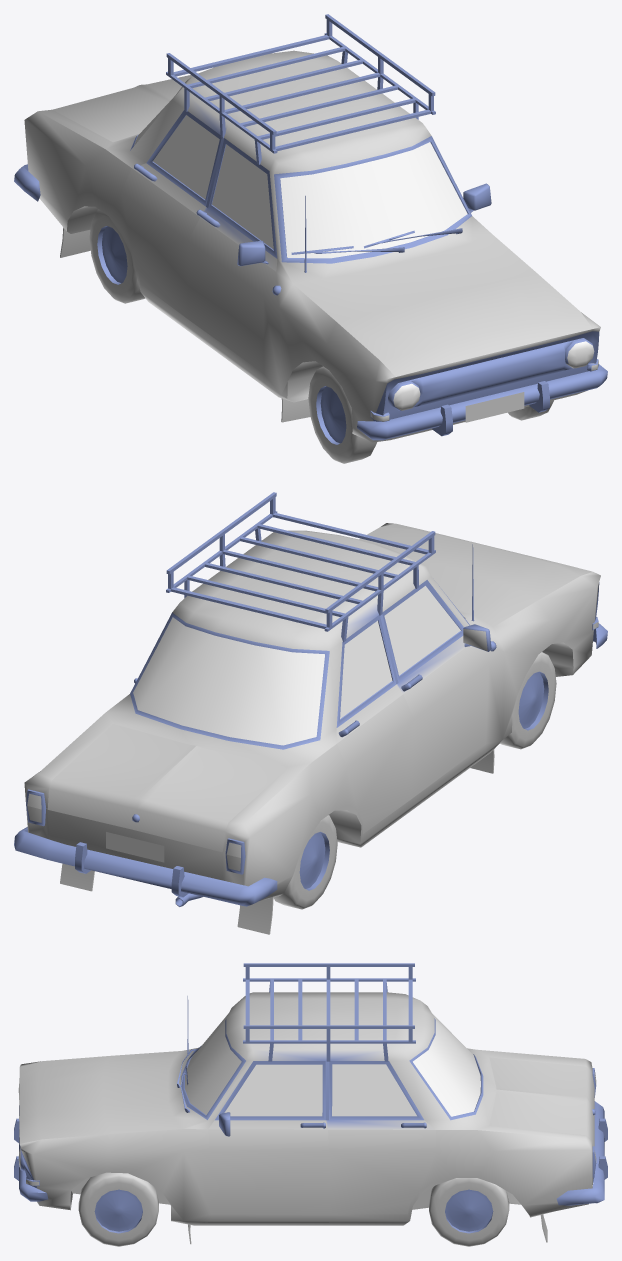
3 renders of one model, top to bottom at view 1: azimuth 30°, elevation 25°; view 2: azimuth 150°, elevation 25°; view 3: azimuth 270°, elevation 25°, orthographic. The views are drawn at different scales.
Parts seen in each view (by area): view 1: MSH_Volga, MSH_Volga_Tire_FrontR, MSH_Volga_Tire_BackR; view 2: MSH_Volga, MSH_Volga_Tire_BackR, MSH_Volga_Tire_FrontR; view 3: MSH_Volga, MSH_Volga_Tire_FrontL, MSH_Volga_Tire_BackL.
Boxes of the visible parts, x1,y1,x2,y2 form: MSH_Volga: [14, 14, 607, 442]; MSH_Volga_Tire_FrontR: [308, 366, 376, 463]; MSH_Volga_Tire_BackR: [89, 209, 145, 303]; MSH_Volga: [14, 492, 607, 934]; MSH_Volga_Tire_BackR: [273, 815, 337, 909]; MSH_Volga_Tire_FrontR: [500, 652, 556, 749]; MSH_Volga: [14, 963, 607, 1244]; MSH_Volga_Tire_FrontL: [78, 1172, 158, 1246]; MSH_Volga_Tire_BackL: [429, 1178, 509, 1246].
Bounding box in the file's own units: 190 × 192 × 484.
